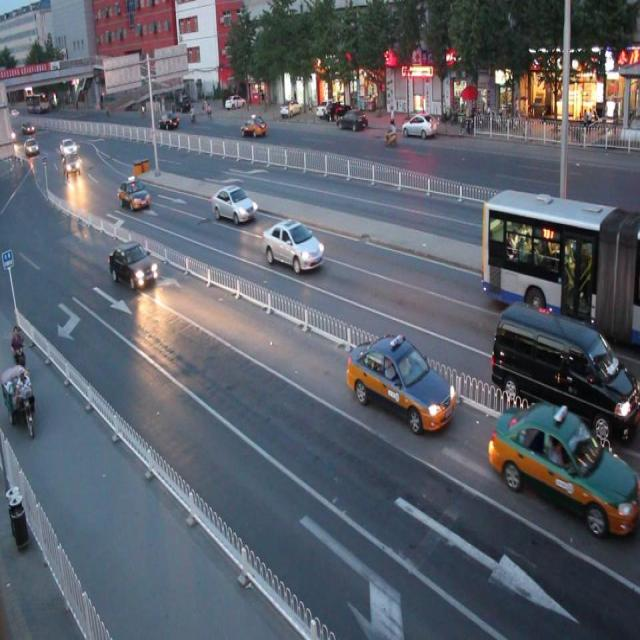car: (486, 400, 640, 538), (345, 334, 454, 427), (262, 221, 323, 272), (110, 242, 156, 287), (210, 184, 256, 223), (119, 175, 149, 210), (241, 115, 268, 137)
truck: (490, 302, 640, 439)
van: (482, 188, 640, 345)
